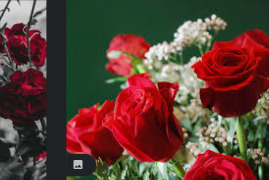RedRose: (104, 75, 185, 162), (196, 27, 268, 116), (64, 100, 120, 162), (93, 34, 161, 72), (191, 151, 256, 180)
